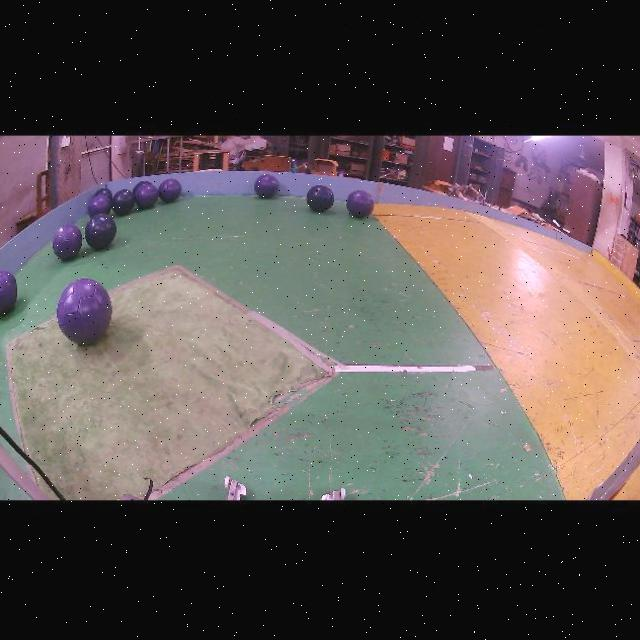B: (85, 214, 116, 250), (306, 185, 334, 213), (111, 189, 135, 215), (93, 188, 112, 202)
P: (57, 279, 112, 345), (53, 224, 82, 260), (0, 270, 17, 315), (347, 190, 374, 218), (135, 183, 159, 209), (254, 175, 279, 199), (158, 179, 182, 203), (87, 194, 111, 218)
